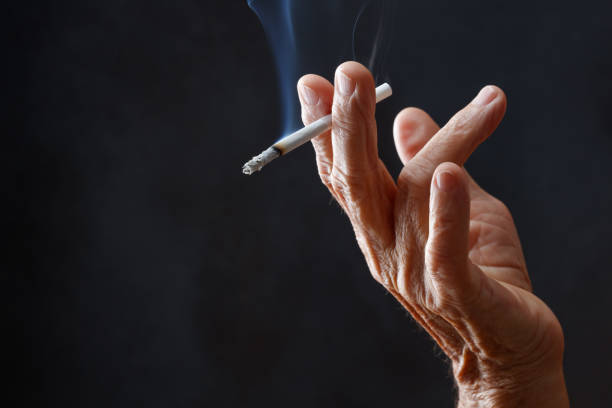cigarette: (240, 81, 394, 179)
